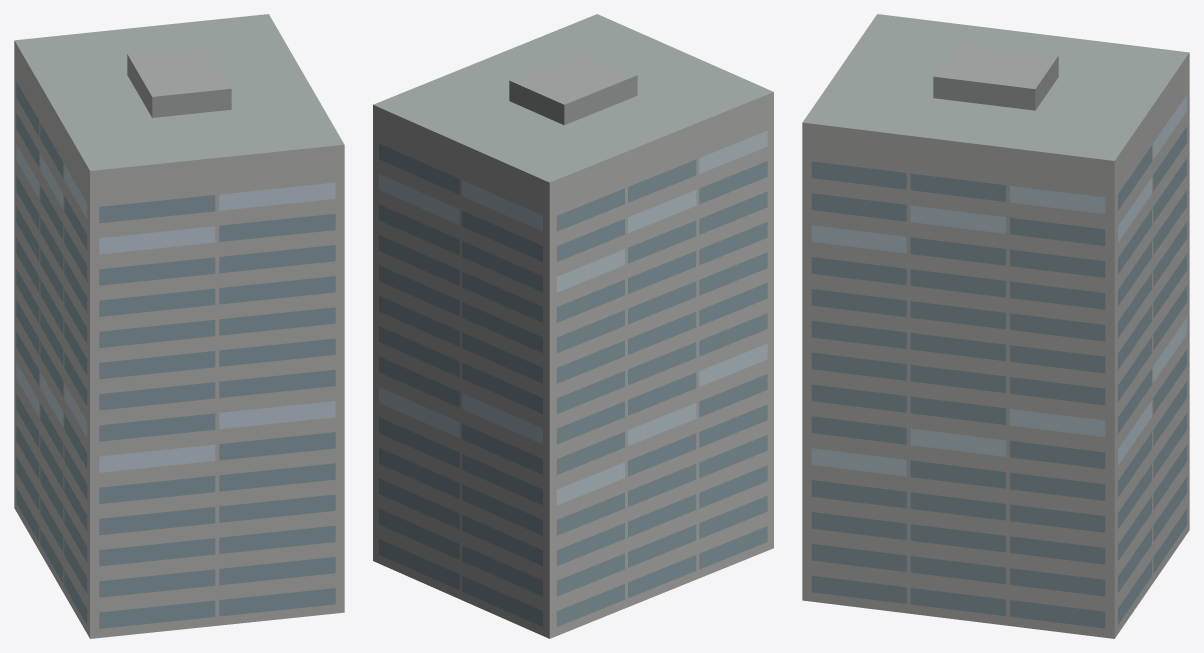
File: fallback-olympic-park-foreon-405.glb
3 renders of one model, left to right at view 1: azimuth 30°, elevation 25°; view 2: azimuth 150°, elevation 25°; view 3: azimuth 270°, elevation 25°, orthographic. The views are drawn at different scales.
Visible parts, largest first — view 1: fallback-olympic-park-foreon-405; view 2: fallback-olympic-park-foreon-405; view 3: fallback-olympic-park-foreon-405.
Boxes of the visible parts, bbox=[...] form: fallback-olympic-park-foreon-405: bbox=[14, 14, 344, 638]; fallback-olympic-park-foreon-405: bbox=[373, 14, 773, 638]; fallback-olympic-park-foreon-405: bbox=[802, 14, 1189, 638].
Size of the model in its own units: 30.18 by 47.81 by 33.57.
